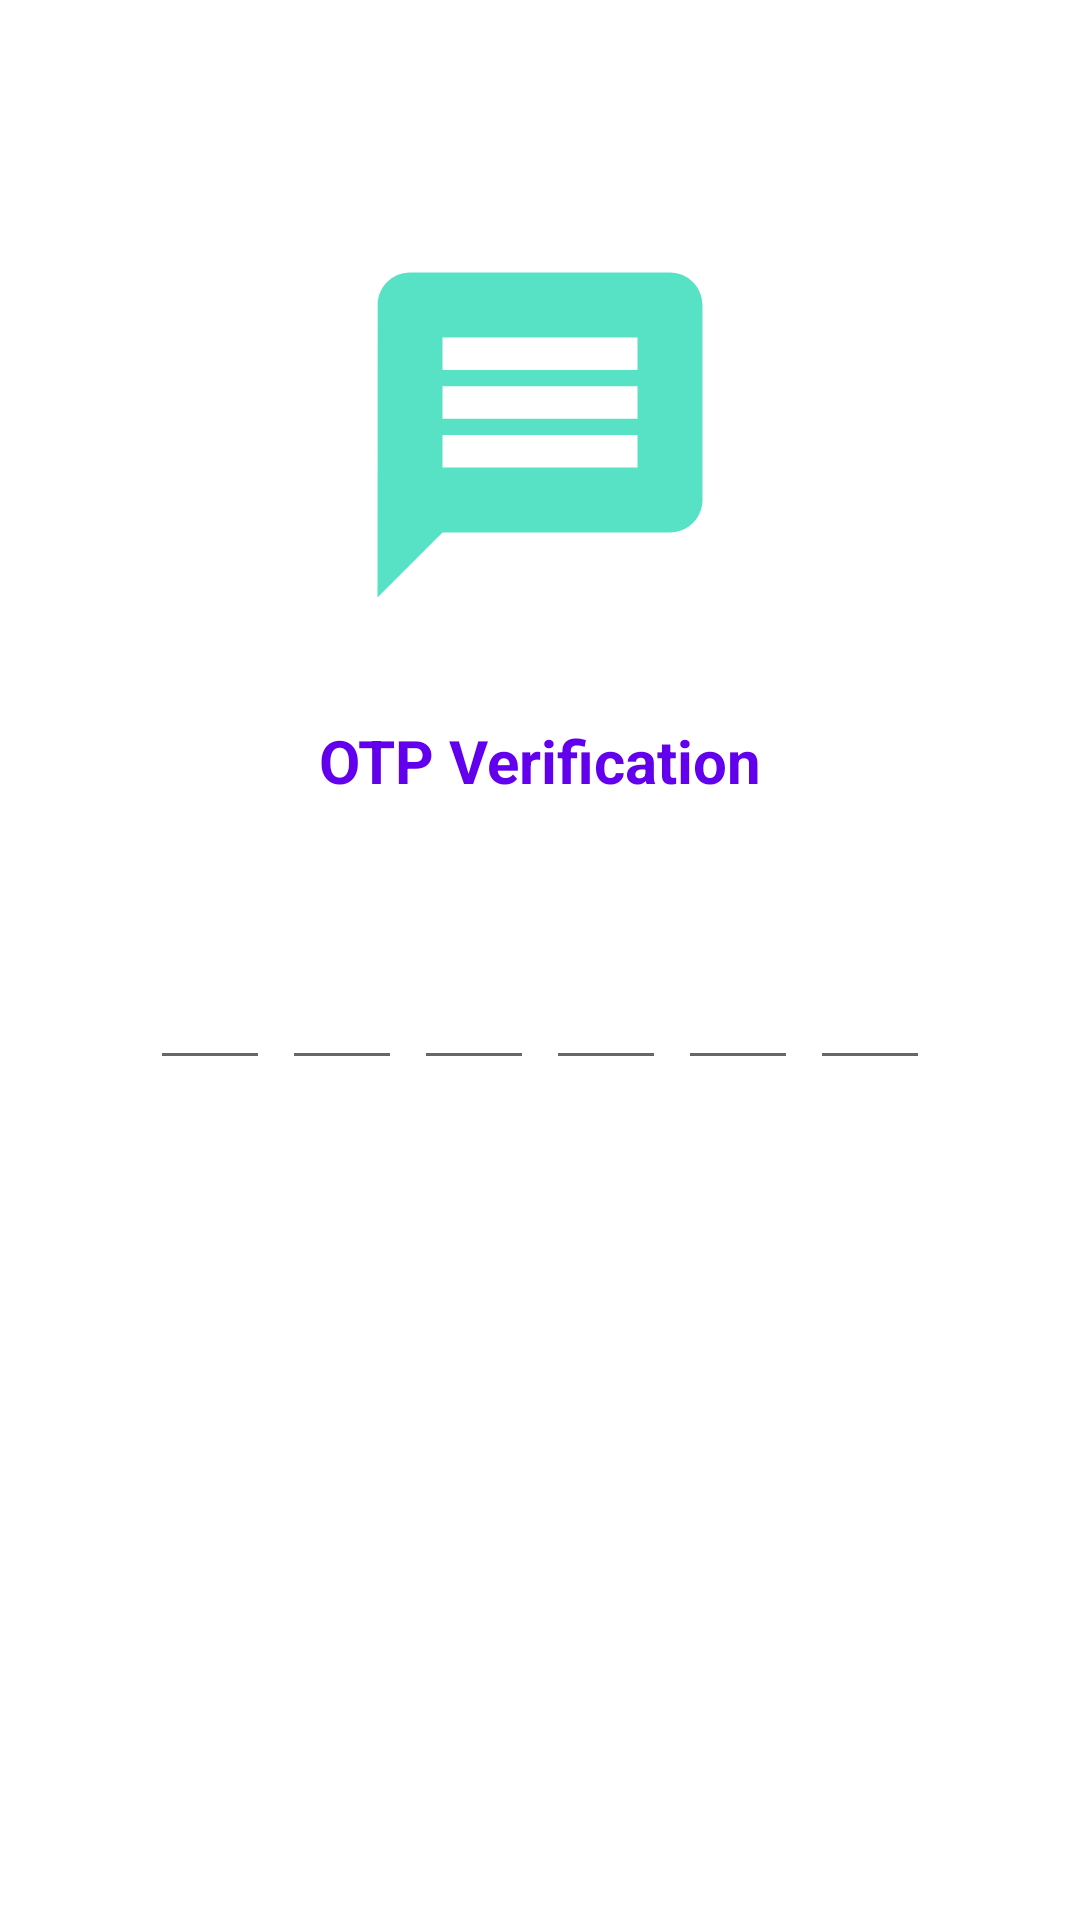

Screen size 1080px x 1920px. Icon name, then its center in pixels as [x,y]:
message: [540,434]
